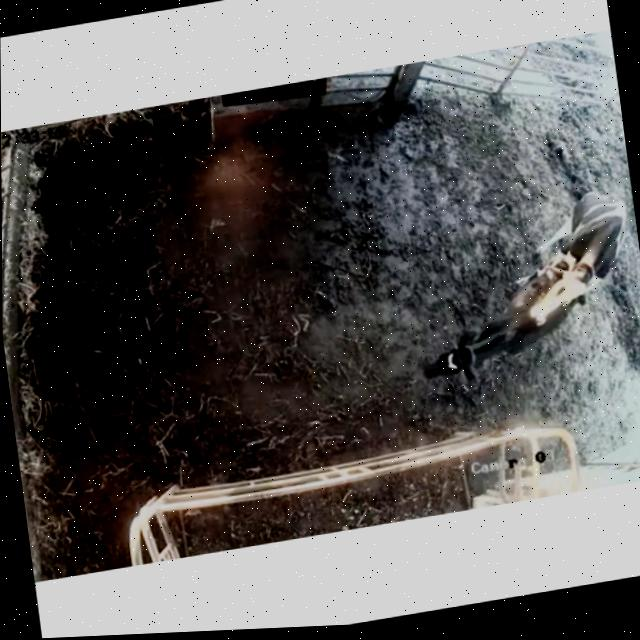ride: (521, 171, 640, 336)
